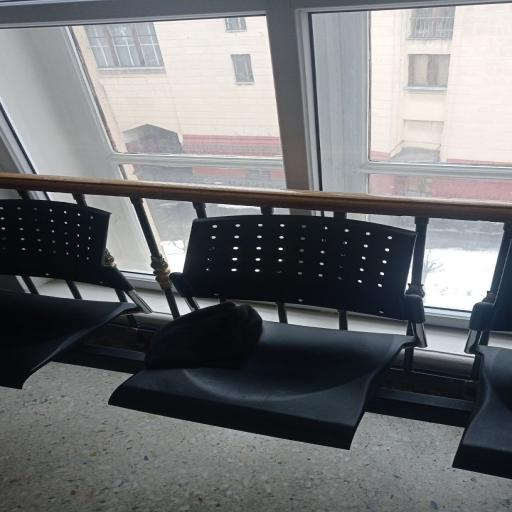bus: (109, 215, 424, 448), (0, 200, 150, 388), (453, 250, 511, 478)
